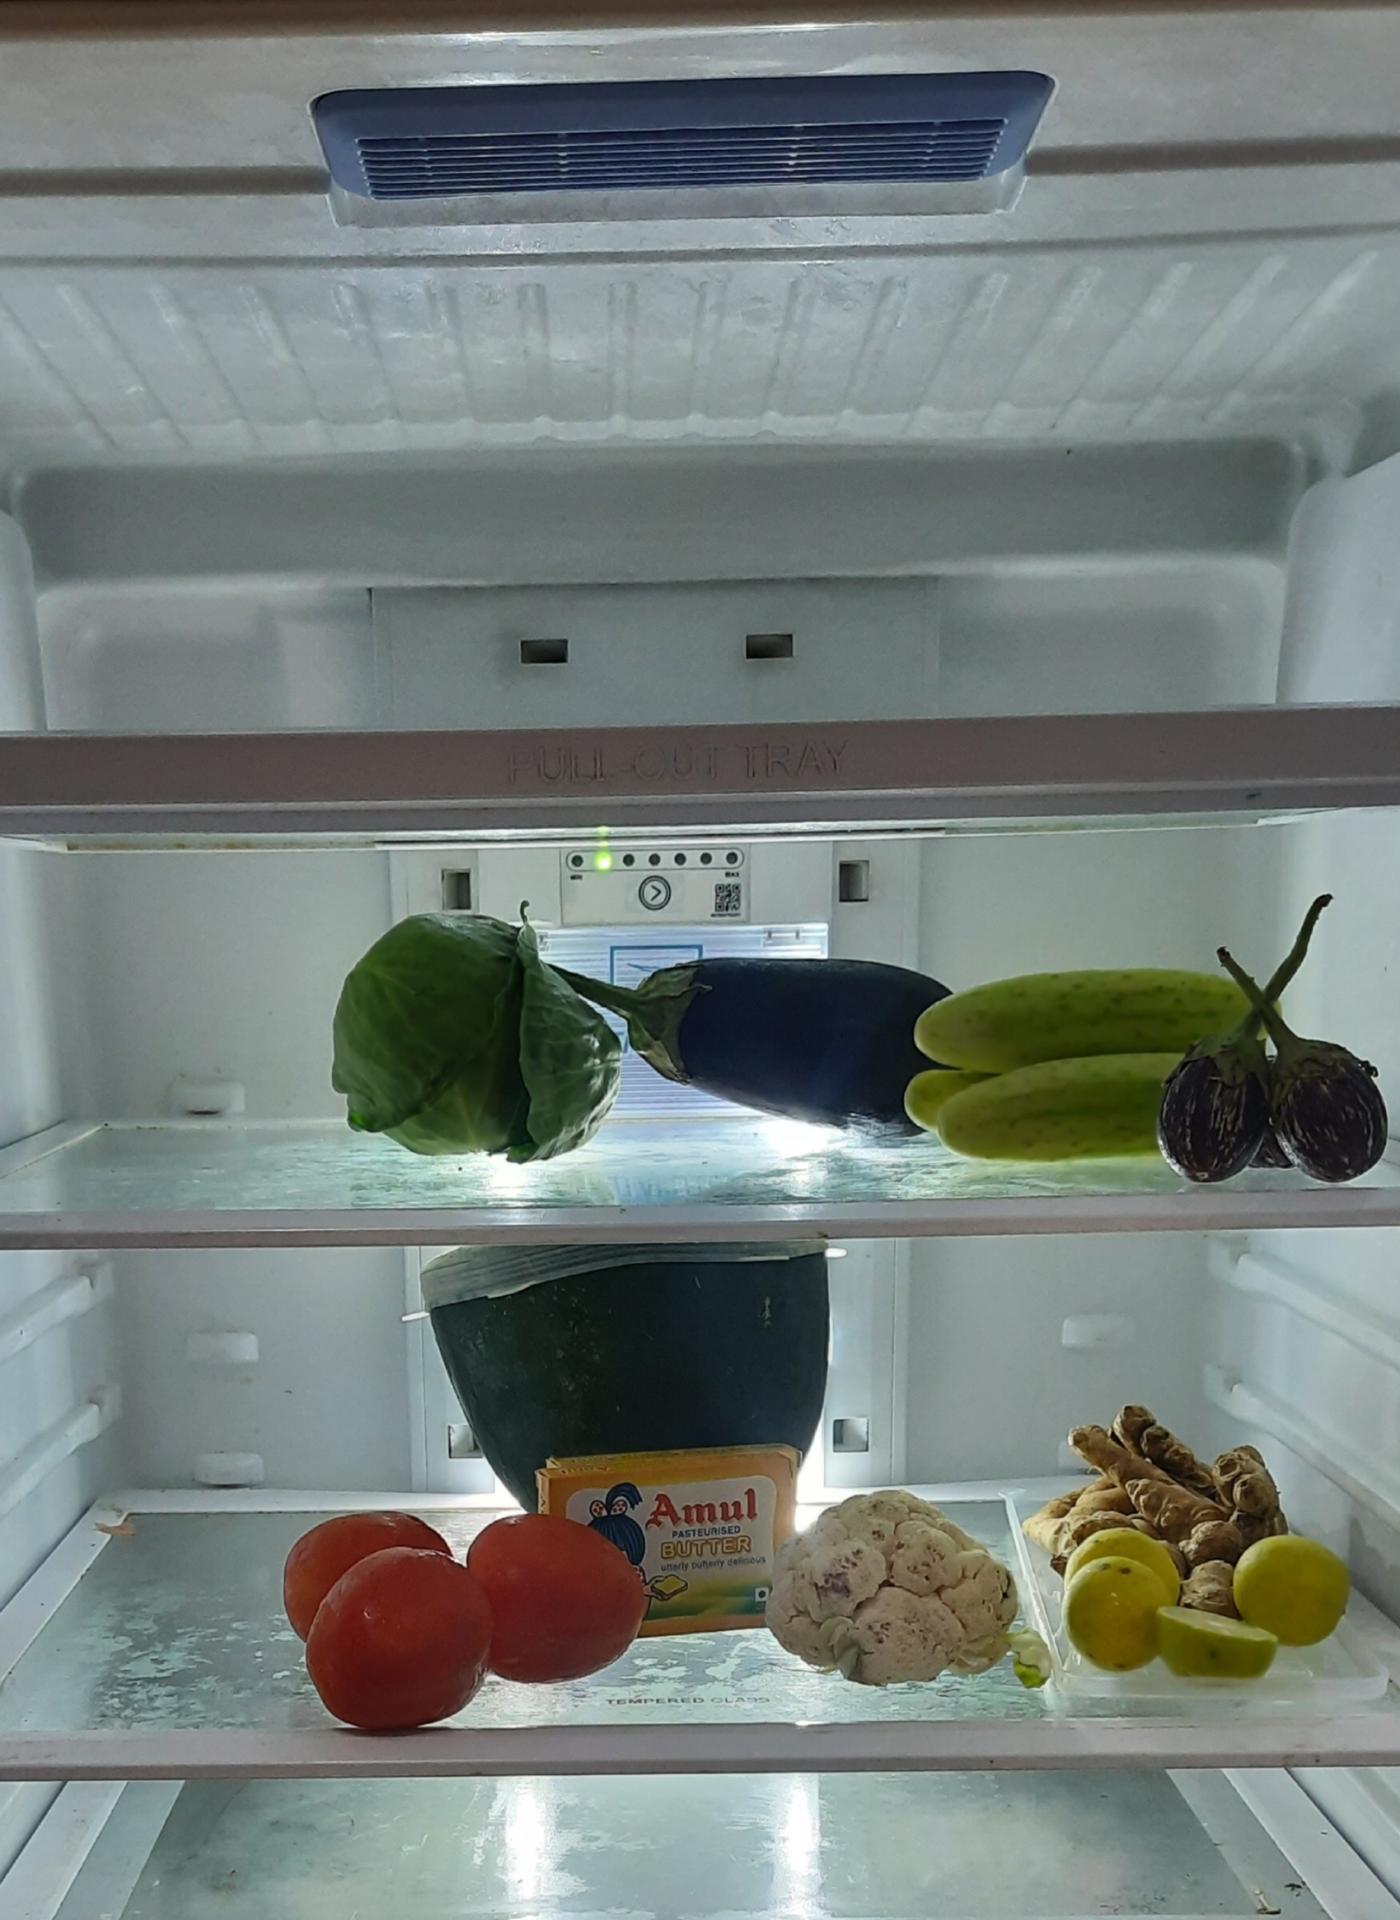brinjal: (564, 948, 965, 1154), (1153, 964, 1394, 1179)
butter: (532, 1446, 787, 1622)
cabbage: (335, 900, 631, 1152)
cauliflower: (774, 1486, 1027, 1683)
cucumber: (906, 966, 1237, 1160)
ginger: (1039, 1406, 1275, 1571)
lemon: (1059, 1535, 1293, 1683)
tomato: (282, 1510, 649, 1728)
watermelon: (414, 1249, 835, 1518)
